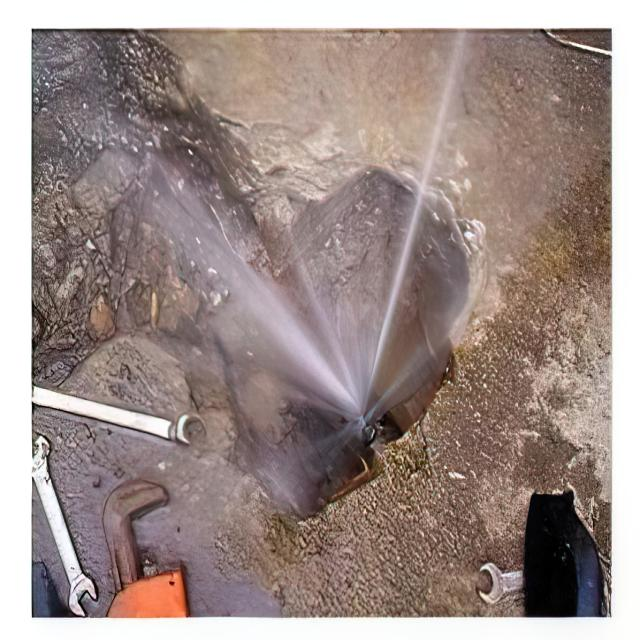leak: (112, 31, 613, 518)
